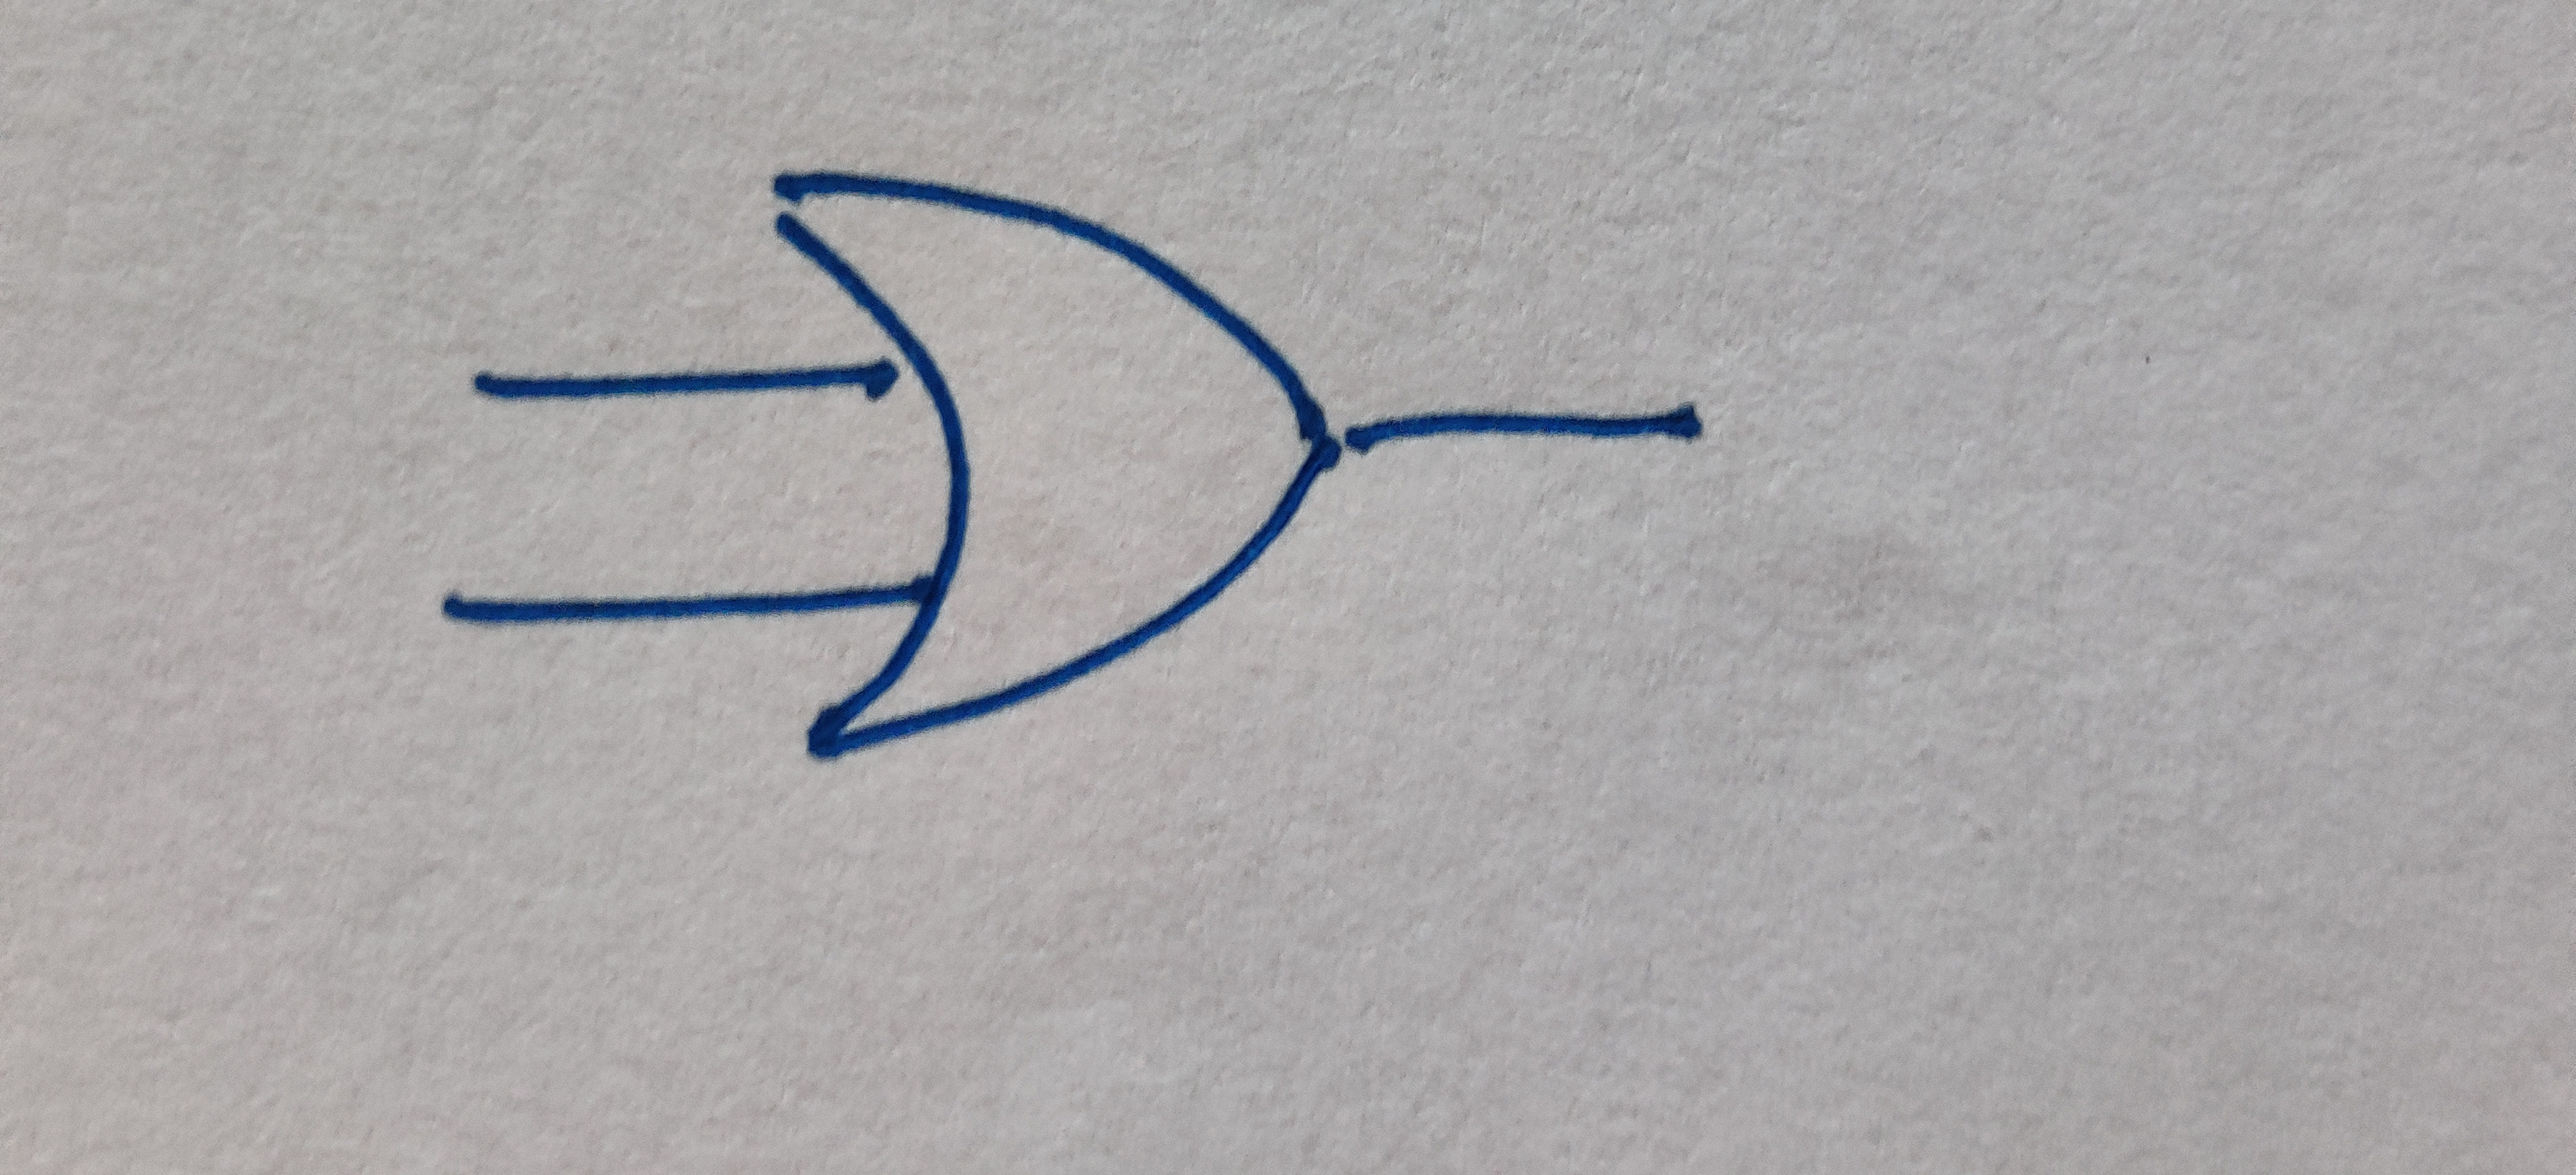or: (770, 168, 1337, 756)
